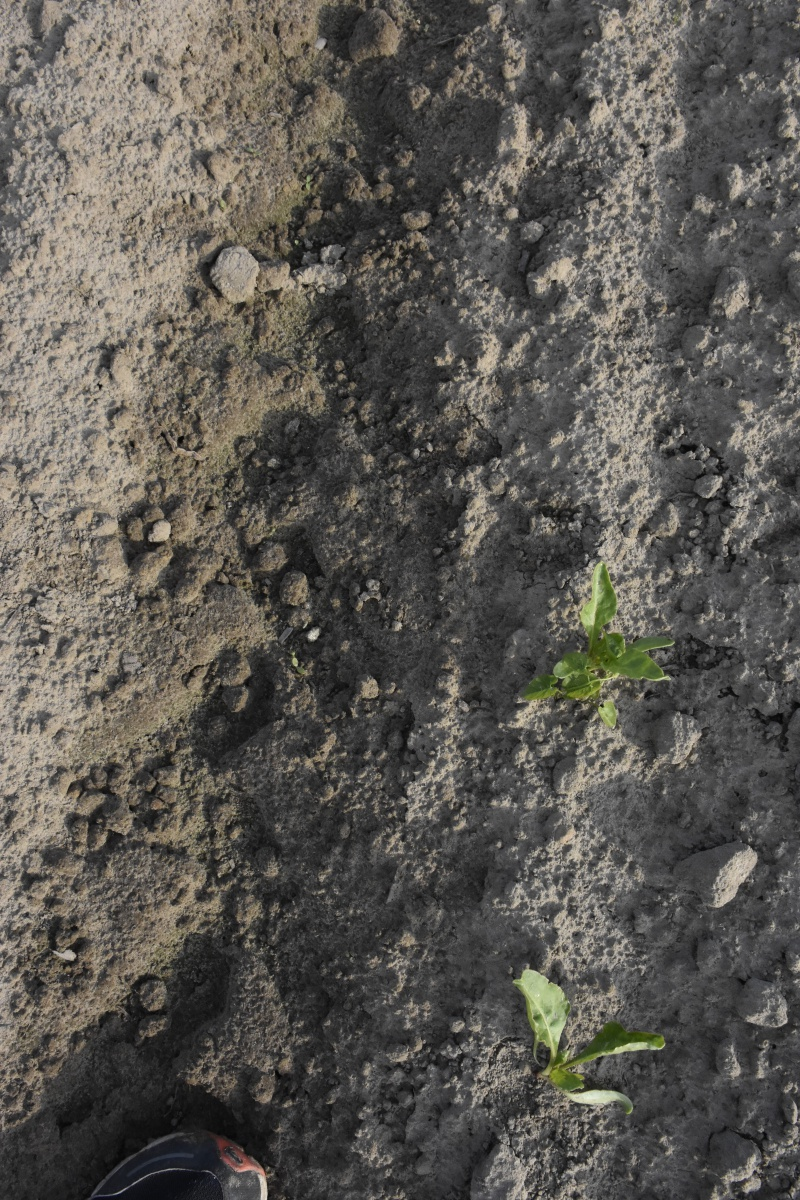field bindweed: (517, 672, 627, 730)
sugar beet: (524, 964, 654, 1121), (554, 560, 675, 681)
